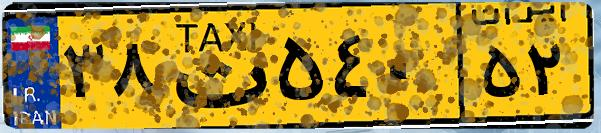0: (385, 28, 445, 110)
2: (525, 38, 570, 115)
3: (57, 26, 110, 100)
4: (330, 28, 385, 110)
5: (270, 28, 330, 110), (475, 38, 525, 113)
8: (110, 28, 158, 98)
ت: (158, 12, 270, 120)
